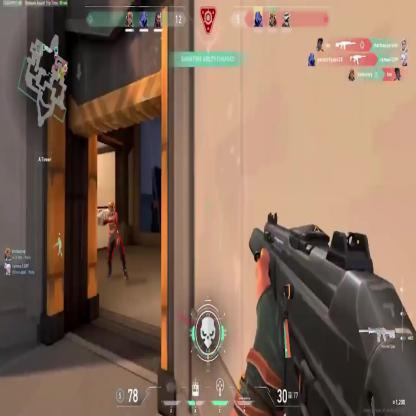enemy: (102, 201, 130, 282)
enemy_head: (107, 202, 116, 214)
